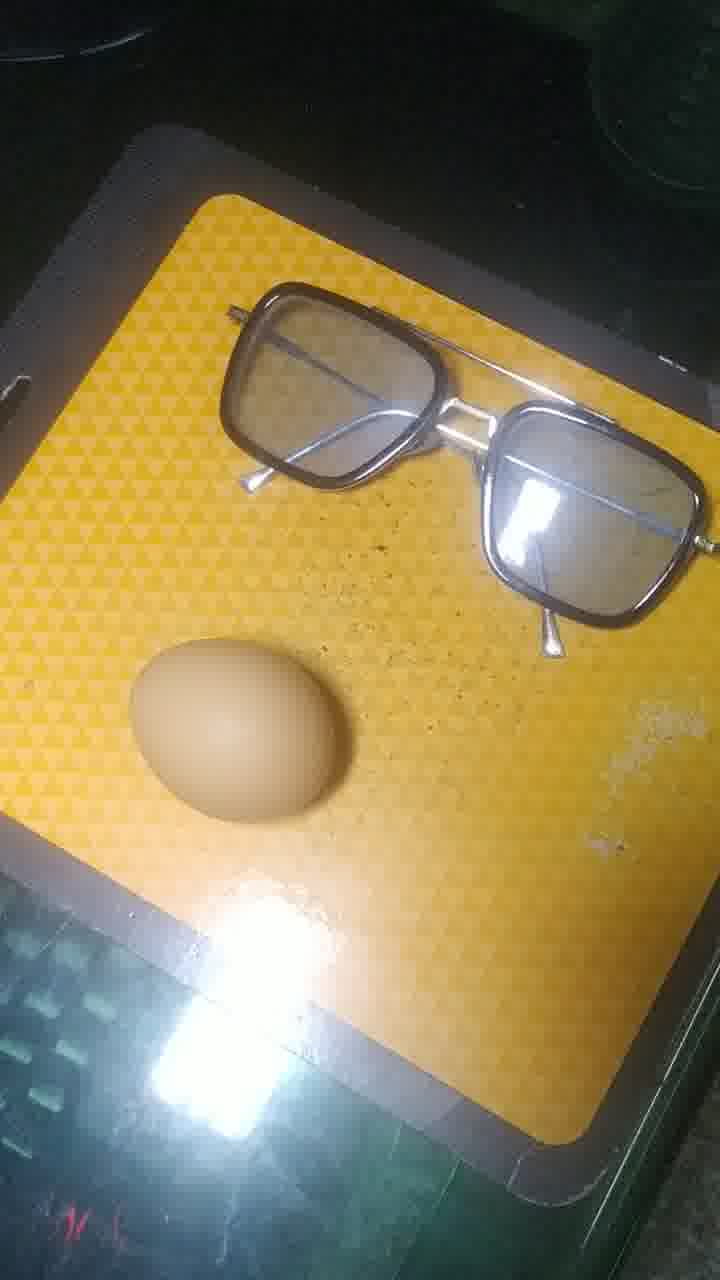egg: (117, 633, 371, 830)
sunglass: (220, 276, 720, 653)
